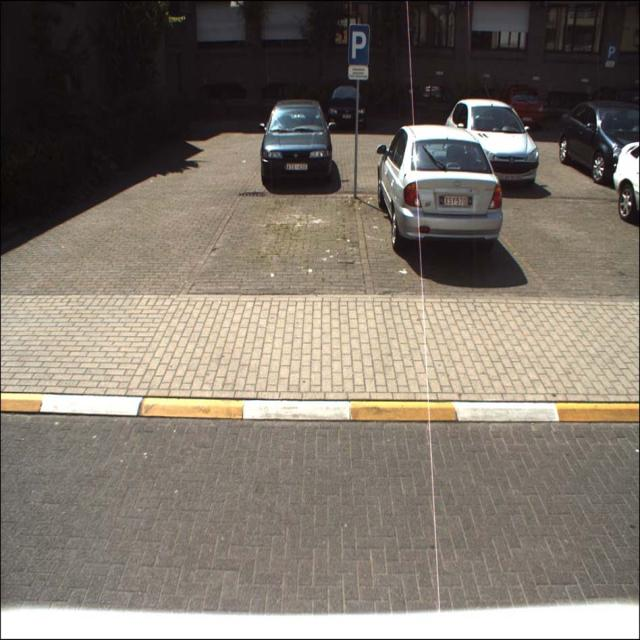park: (347, 23, 370, 65), (606, 44, 616, 62)
